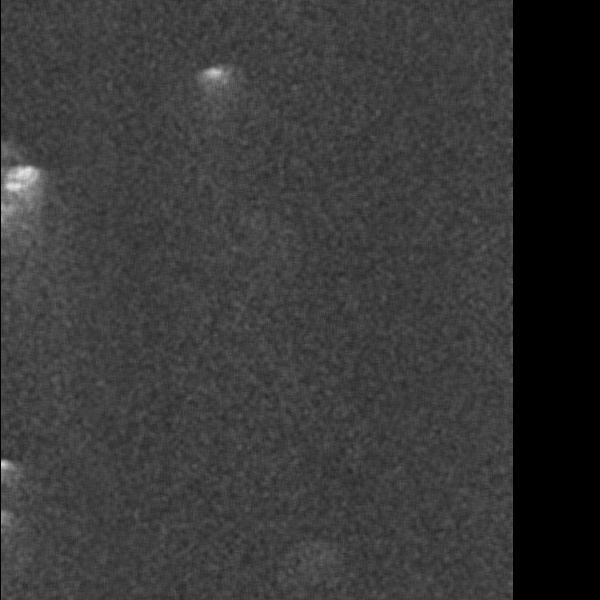spark: (1, 159, 46, 252), (193, 62, 234, 109)
